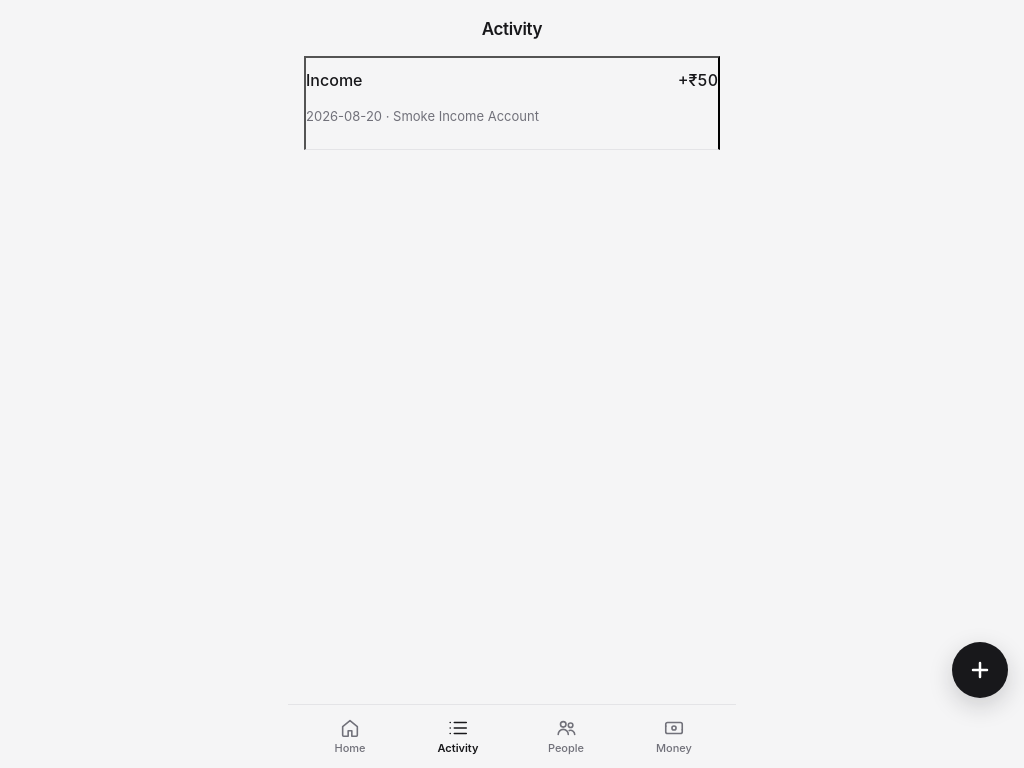
Test: correction form family dispatch › opens the other-income form for the production smoke ₹50 income, not expense categories
What coordinates should you click on to do the following:
click the text "Income"
I would click on:
 (334, 80)
Its box is [306,69,362,92].
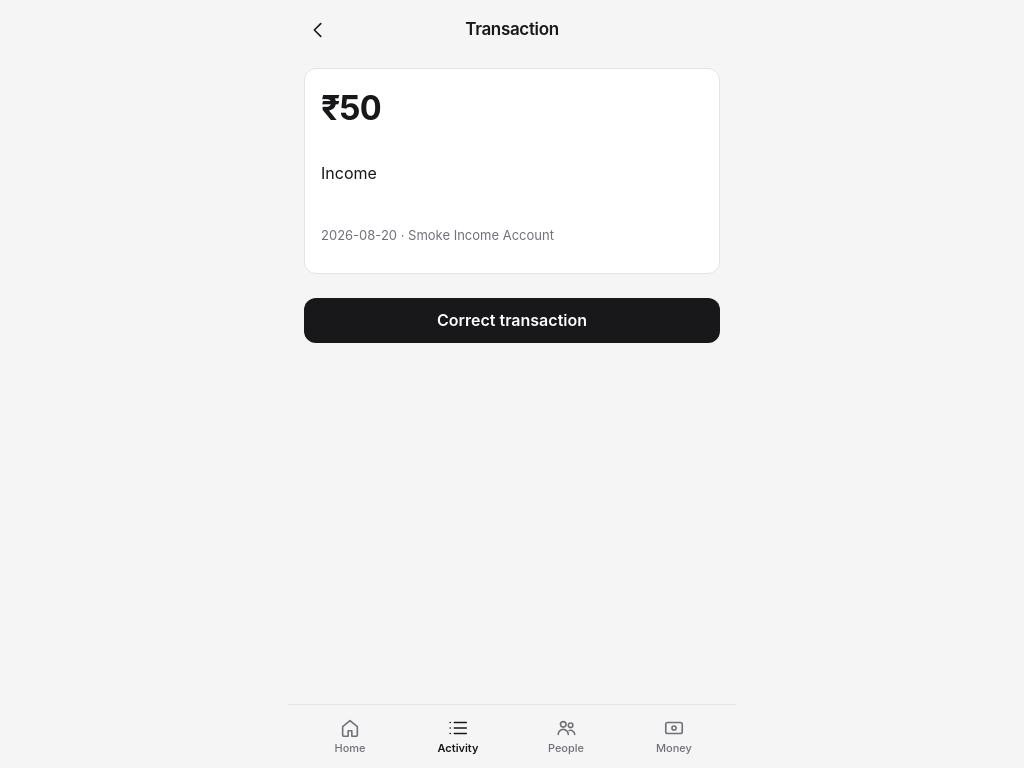
Expected: the button "Correct transaction" is shown
What coordinates should you click on to do the following:
click the button "Correct transaction"
I would click on:
 (512, 320)
Its box is [304,298,720,343].
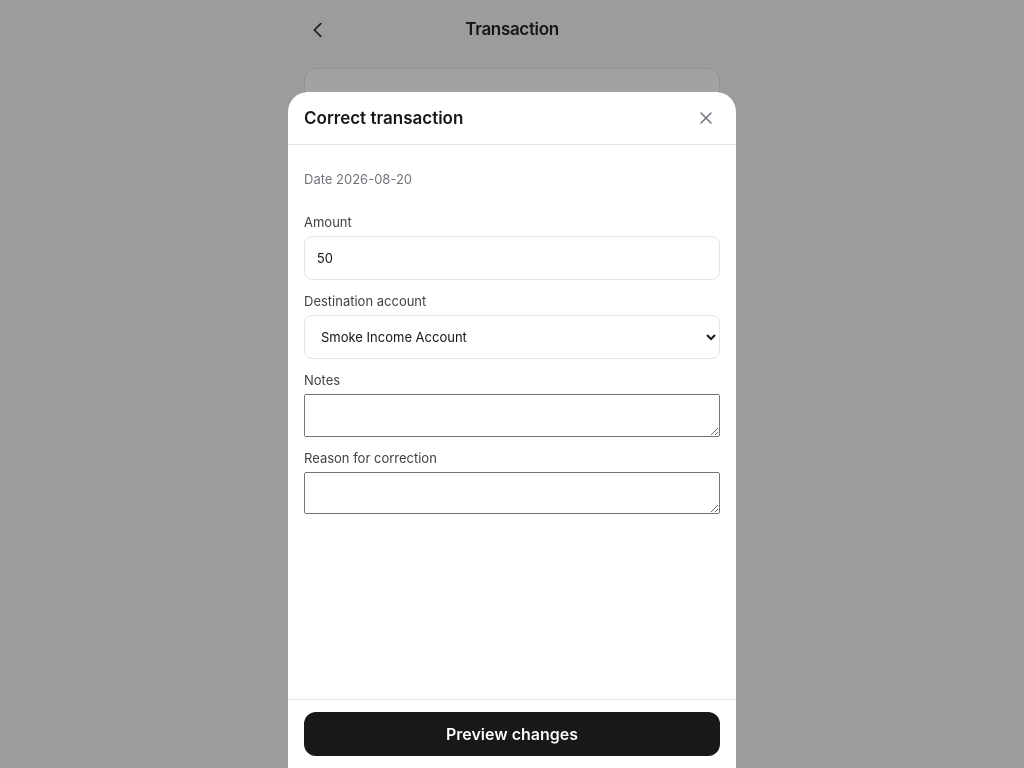
Expected: the form is shown, [304,157,720,514]
Expected: the field labelled "Amount" holds "50", [304,236,720,280]
Expected: the dropdown labelled "Destination account" shows "Smoke Income Account", [304,315,720,359]
